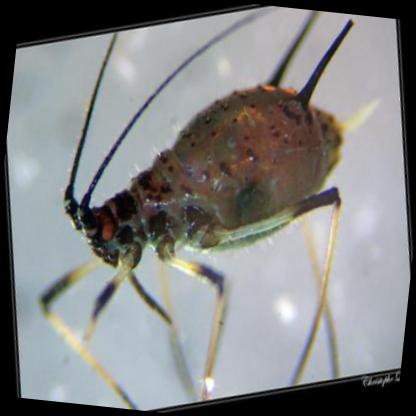uroleucon compositae: (61, 19, 381, 268)
